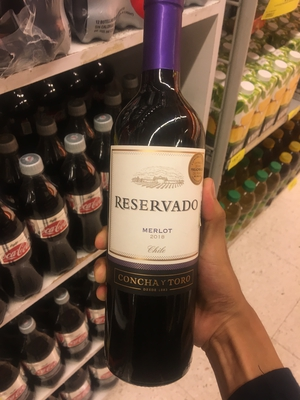reservado merlot: (100, 4, 216, 394)
